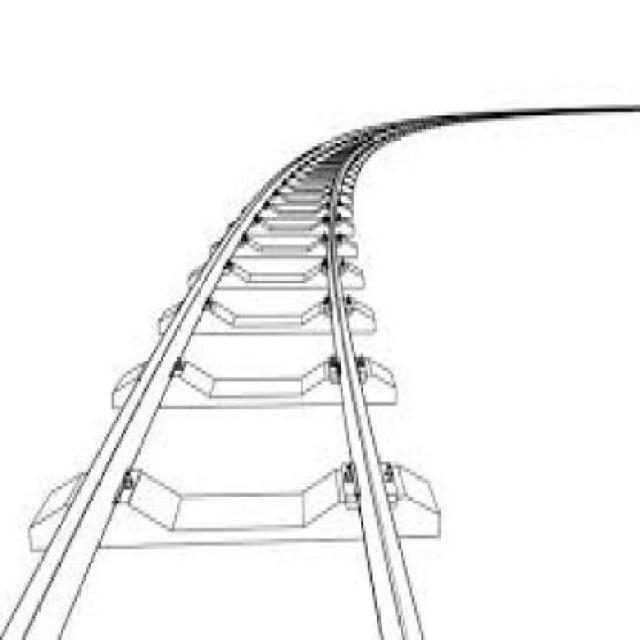rail: (0, 71, 636, 628)
